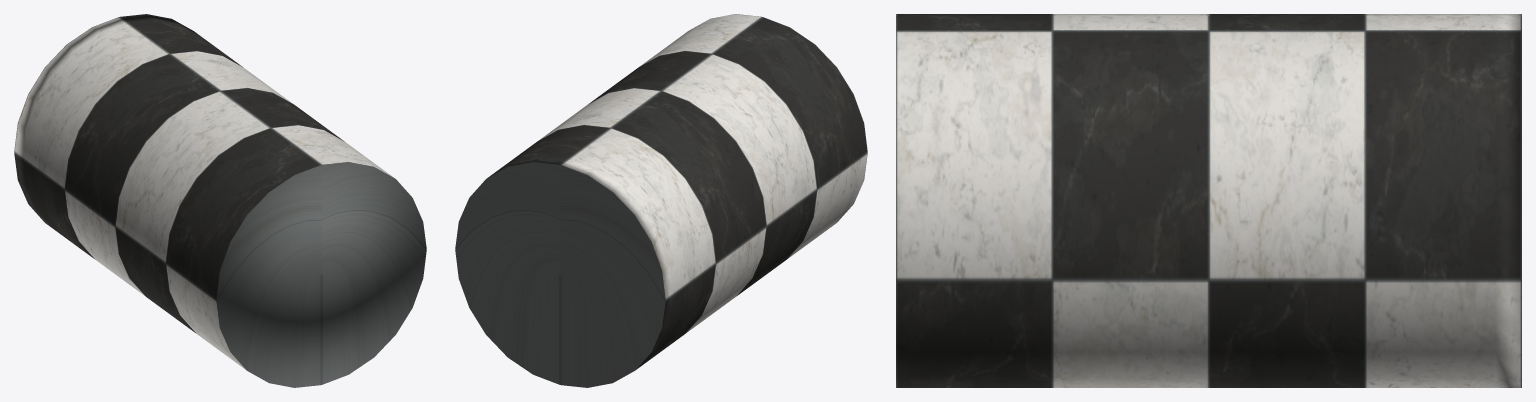
File: column60.obj
The picture shows the model from 3 angles, left to right: view 1: azimuth 30°, elevation 25°; view 2: azimuth 150°, elevation 25°; view 3: azimuth 270°, elevation 25°; orthographic projection. The views are drawn at different scales.
Visible parts, largest first — view 1: object; view 2: object; view 3: object.
Boxes of the visible parts, x1,y1,x2,y2 form: object: [14, 14, 426, 387]; object: [455, 14, 867, 387]; object: [896, 14, 1521, 387].
Bounding box in the file's own units: 0.6 × 0.6 × 1.
